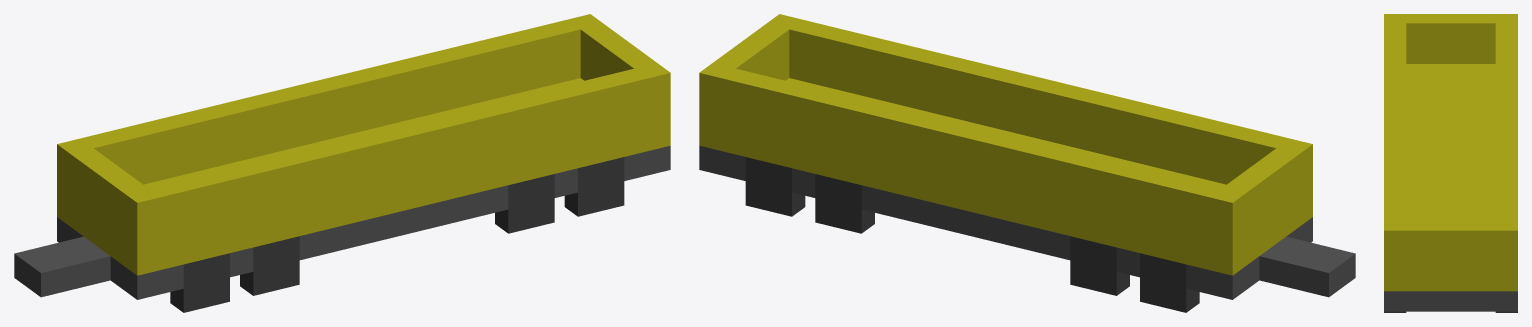
The model's file is train-trailer-v8-yellow.gltf.
3 renders of one model, left to right at view 1: azimuth 30°, elevation 25°; view 2: azimuth 150°, elevation 25°; view 3: azimuth 270°, elevation 25°, orthographic. The views are drawn at different scales.
Visible parts, largest first — view 1: model, wheels; view 2: model, wheels; view 3: model.
Part boxes in pixels (x1,y1,x2,y2): model: (14, 14, 670, 299); wheels: (170, 157, 624, 312); model: (699, 14, 1355, 299); wheels: (745, 157, 1199, 312); model: (1384, 14, 1517, 311).
Bounding box in the file's own units: 2.6 × 0.5 × 0.6.
Materials: 2 (2 with a texture image).
